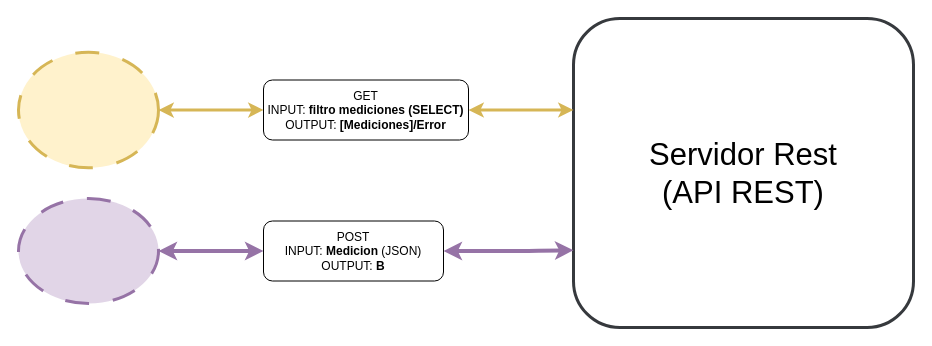
This 932x346 diagram has some shape labels left out. The centre of each missing label's shape, as x and y in pixels:
Cliente REST(App): pixel 88 250
Cliente REST(WEB): pixel 88 109
